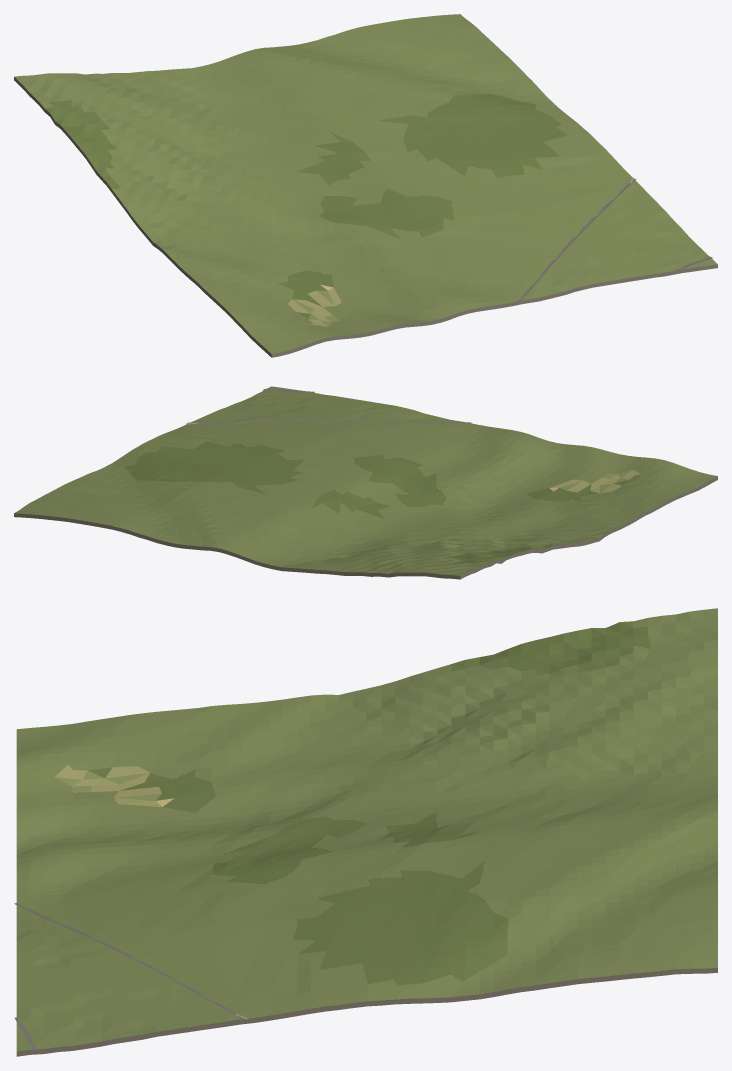
File: parca_+9_-7-uzak.glb
3 renders of one model, top to bottom at view 1: azimuth 30°, elevation 25°; view 2: azimuth 150°, elevation 25°; view 3: azimuth 270°, elevation 25°, orthographic. The views are drawn at different scales.
Visible parts, largest first — view 1: parca_+9_-7_arazi_uzak, parca_+9_-7_yollar_uzak; view 2: parca_+9_-7_arazi_uzak, parca_+9_-7_yollar_uzak; view 3: parca_+9_-7_arazi_uzak, parca_+9_-7_yollar_uzak.
Boxes of the visible parts, left/top/right/bottom form: parca_+9_-7_arazi_uzak: left=14, top=14, right=717, bottom=357; parca_+9_-7_yollar_uzak: left=518, top=177, right=712, bottom=301; parca_+9_-7_arazi_uzak: left=14, top=386, right=717, bottom=579; parca_+9_-7_yollar_uzak: left=186, top=389, right=471, bottom=424; parca_+9_-7_arazi_uzak: left=16, top=608, right=717, bottom=1056; parca_+9_-7_yollar_uzak: left=14, top=902, right=248, bottom=1050.
Size of the model in its own units: 1004 by 239 by 1004.
